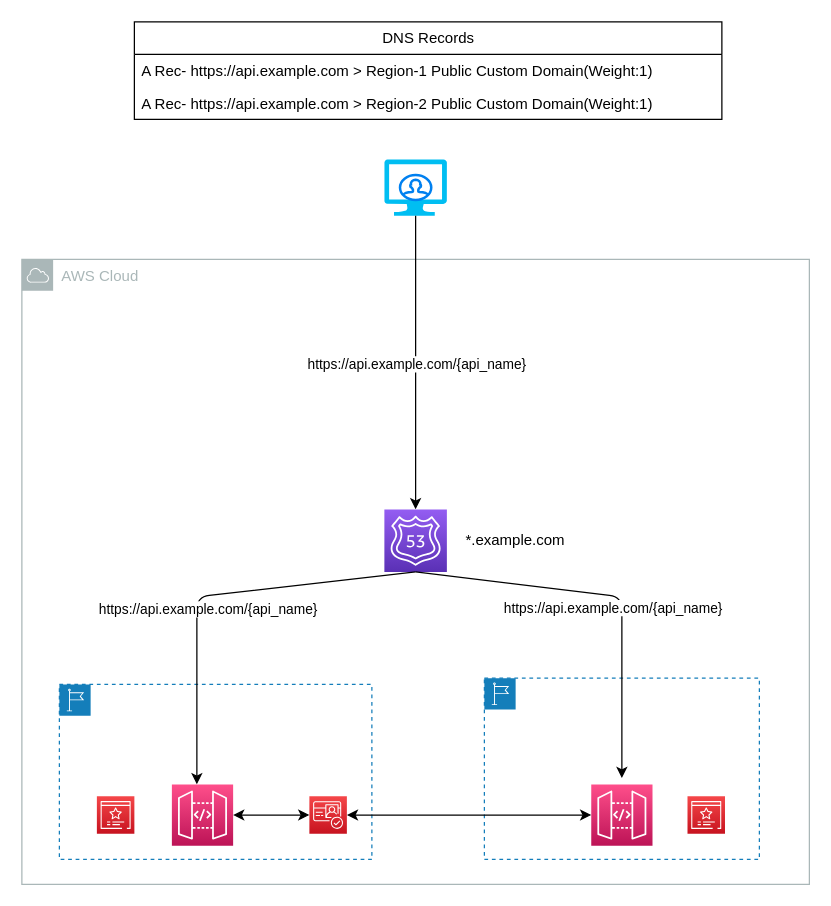
This 831x906 diagram has some shape labels left out. The box of each missing label's shape, as (x1, y1, x2, y2) in pixels:
Region-1: (58, 683, 372, 859)
Region-2: (483, 677, 759, 859)
